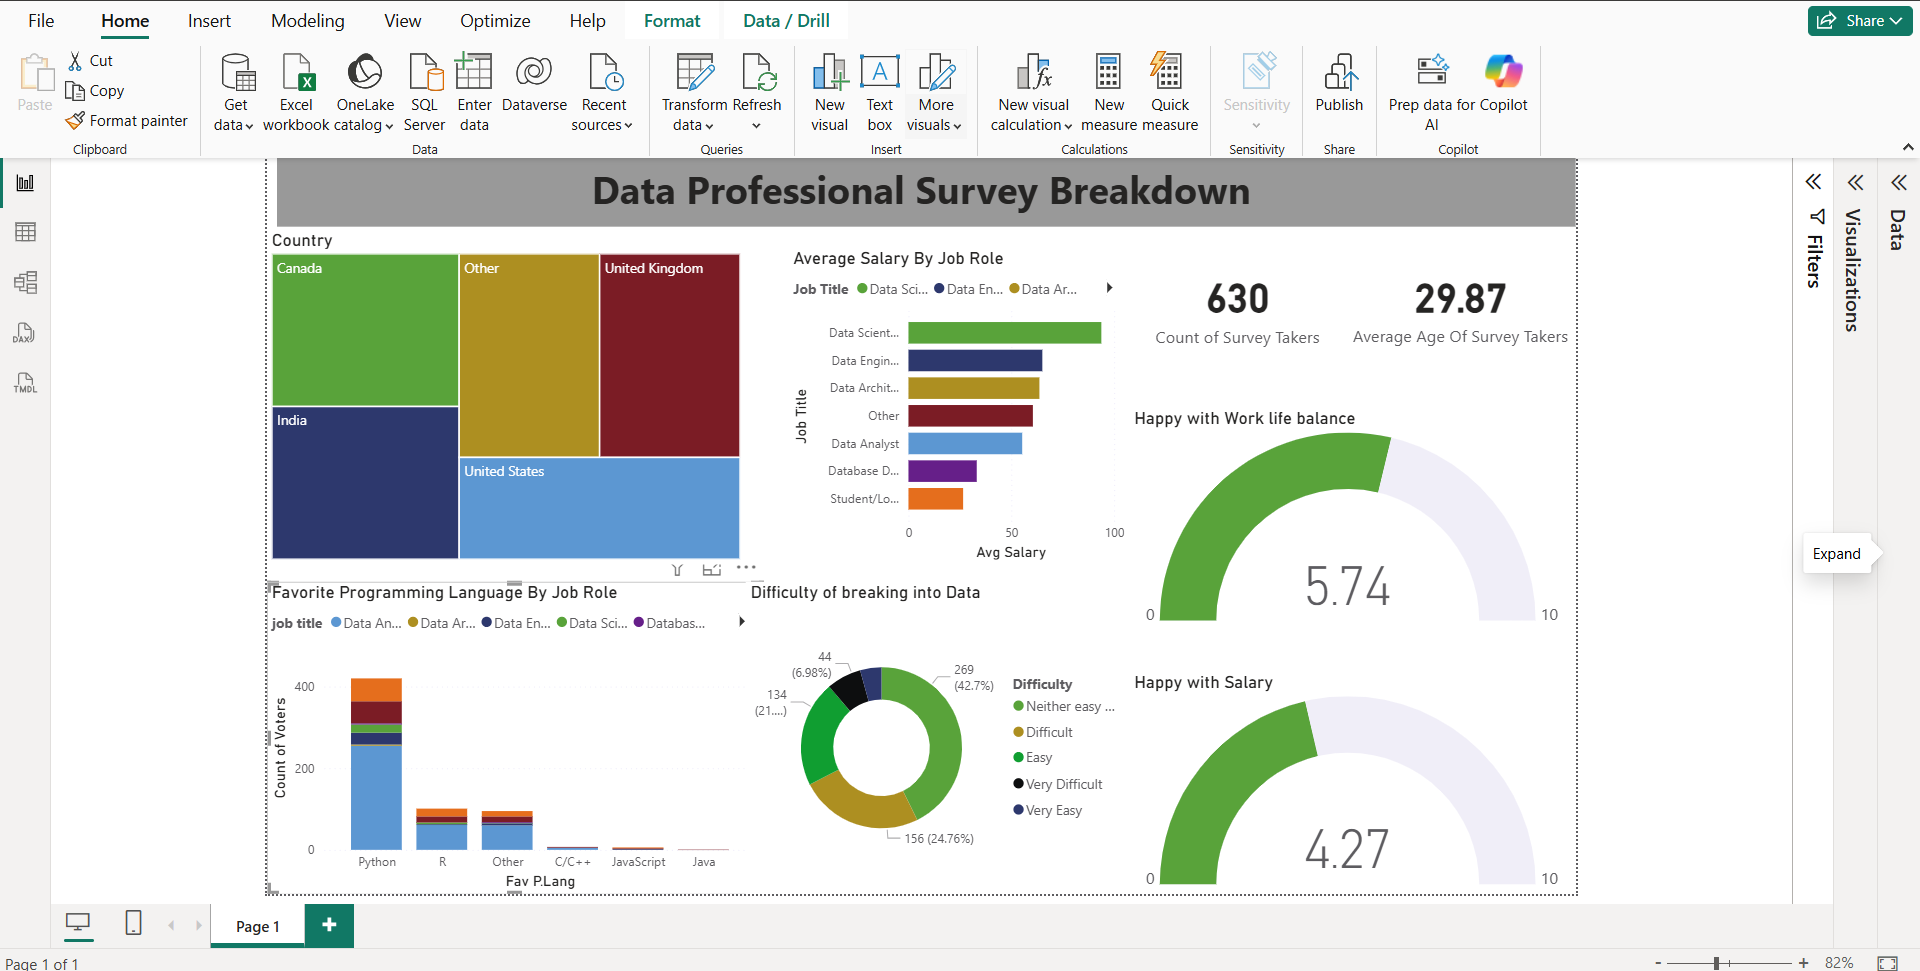

What the dashboard file says about the page in this screenshot:
{"tool":"powerbi","page":{"name":"Page 1","canvas":[1280,720],"ordinal":0},"visuals":[{"type":"textbox","box":[9.6,0,1270.7,67.2],"z":0},{"type":"card","fields":{"Values":["Count(Data Professional Survey.Unique ID)"]},"box":[844,70,212,150],"z":1},{"type":"card","fields":{"Values":["Avg(Data Professional Survey.Q10 - Current Age)"]},"box":[1055.5,70,225.1,149.1],"z":2},{"type":"barChart","title":"Average Salary By JobTakers","fields":{"Category":["Data Professional Survey.Q1 - Which Title Best Fits your Current Role?.1"],"Y":["Avg(Data Professional Survey.Average Salaryy)"],"Series":["Data Professional Survey.Q1 - Which Title Best Fits your Current Role?.1"]},"box":[510,88,334,310],"z":3},{"type":"columnChart","title":"Favorite Programming Language","fields":{"Category":["Data Professional Survey.Q5 - Favorite Programming Language.1"],"Y":["CountNonNull(Data Professional Survey.Unique ID)"],"Series":["Data Professional Survey.Q1 - Which Title Best Fits your Current Role?.1"]},"box":[0,414,484,306],"z":4},{"type":"treemap","title":"Country","fields":{"Group":["Data Professional Survey.Q11 - Which Country do you live in?.1"],"Values":["Count(Data Professional Survey.Q11 - Which Country do you live in?.1)"]},"box":[0,70,468,328],"z":5},{"type":"gauge","title":"Happy with Work life balance","fields":{"Y":["Avg(Data Professional Survey.Q6 - How Happy are you in your Current Position with the following? (Work/Life Balance))"],"MaxValue":["Max(Data Professional Survey.Q6 - How Happy are you in your Current Position with the following? (Work/Life Balance))1"],"MinValue":["Min(Data Professional Survey.Q6 - How Happy are you in your Current Position with the following? (Work/Life Balance))2"]},"box":[844,244,436,218],"z":6},{"type":"gauge","title":"Happy with Salary","fields":{"Y":["Avg(Data Professional Survey.Q6 - How Happy are you in your Current Position with the following? (Salary))"],"MinValue":["Min(Data Professional Survey.Q6 - How Happy are you in your Current Position with the following? (Salary))"],"MaxValue":["Max(Data Professional Survey.Q6 - How Happy are you in your Current Position with the following? (Salary))"]},"box":[844,502,436,218],"z":7},{"type":"donutChart","title":"Difficulty Level","fields":{"Y":["CountNonNull(Data Professional Survey.Q7 - How difficult was it for you to break into Data?)"],"Category":["Data Professional Survey.Q7 - How difficult was it for you to break into Data?"]},"box":[468,414,376,306],"z":8}]}

Visuals, with their boxes on the page's 1280x720 design canvas (x1, y1, x2, y2). These are canvas units, not pixel positions in the 1920x971 screenshot, which may show the page scaled, cropped or inside an application window:
textbox: (10,0,1280,67)
card - Count(Data Professional Survey.Unique ID): (844,70,1056,220)
card - Avg(Data Professional Survey.Q10 - Current Age): (1056,70,1281,219)
"Average Salary By JobTakers" barChart: (510,88,844,398)
"Favorite Programming Language" columnChart: (0,414,484,720)
"Country" treemap: (0,70,468,398)
"Happy with Work life balance" gauge: (844,244,1280,462)
"Happy with Salary" gauge: (844,502,1280,720)
"Difficulty Level" donutChart: (468,414,844,720)
